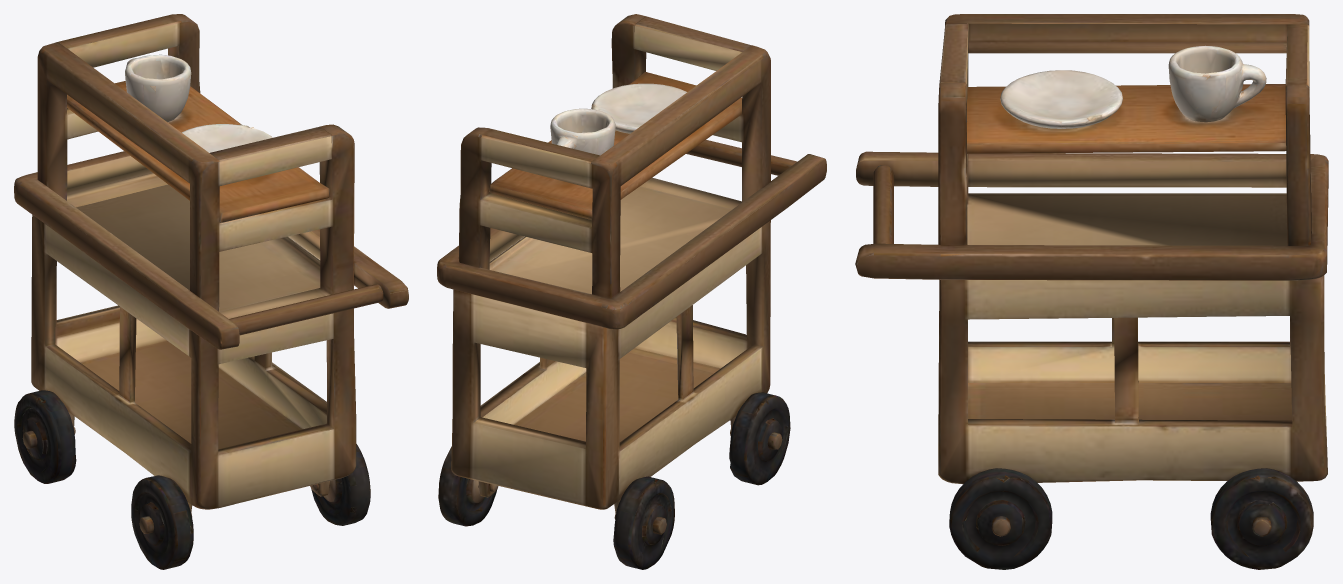
The model's file is cart.glb.
3 renders of one model, left to right at view 1: azimuth 30°, elevation 25°; view 2: azimuth 150°, elevation 25°; view 3: azimuth 270°, elevation 25°, orthographic. The views are drawn at different scales.
Visible parts, largest first — view 1: Model; view 2: Model; view 3: Model.
Boxes of the visible parts, x1,y1,x2,y2 form: Model: (14, 14, 408, 569); Model: (437, 14, 826, 569); Model: (855, 14, 1328, 569).
Bounding box in the file's own units: 0.5444 × 0.9995 × 0.9253.
Materials: 1 (1 with a texture image).
